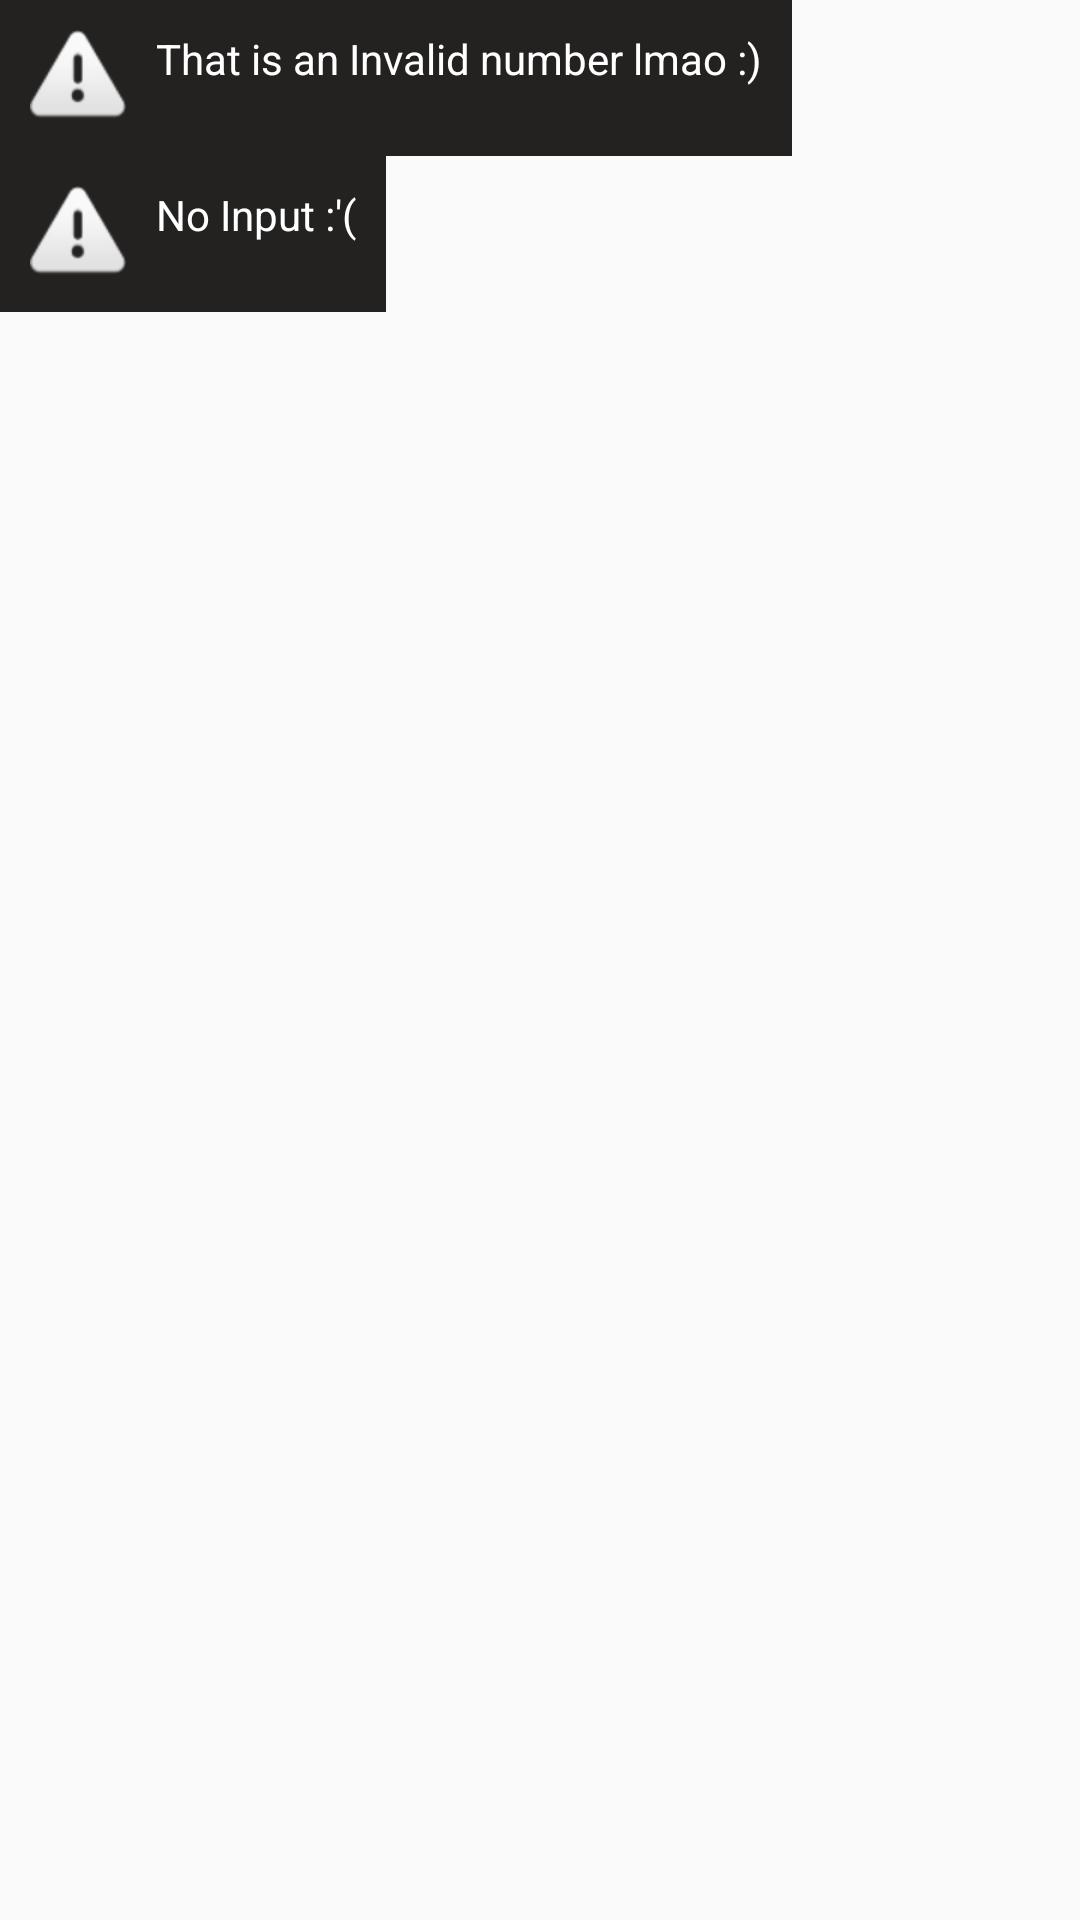

Where icons sit on this 1080x1920 app screen, as (x1, y1, x2, y2):
alert: (30, 30, 126, 117), (30, 186, 126, 273)
